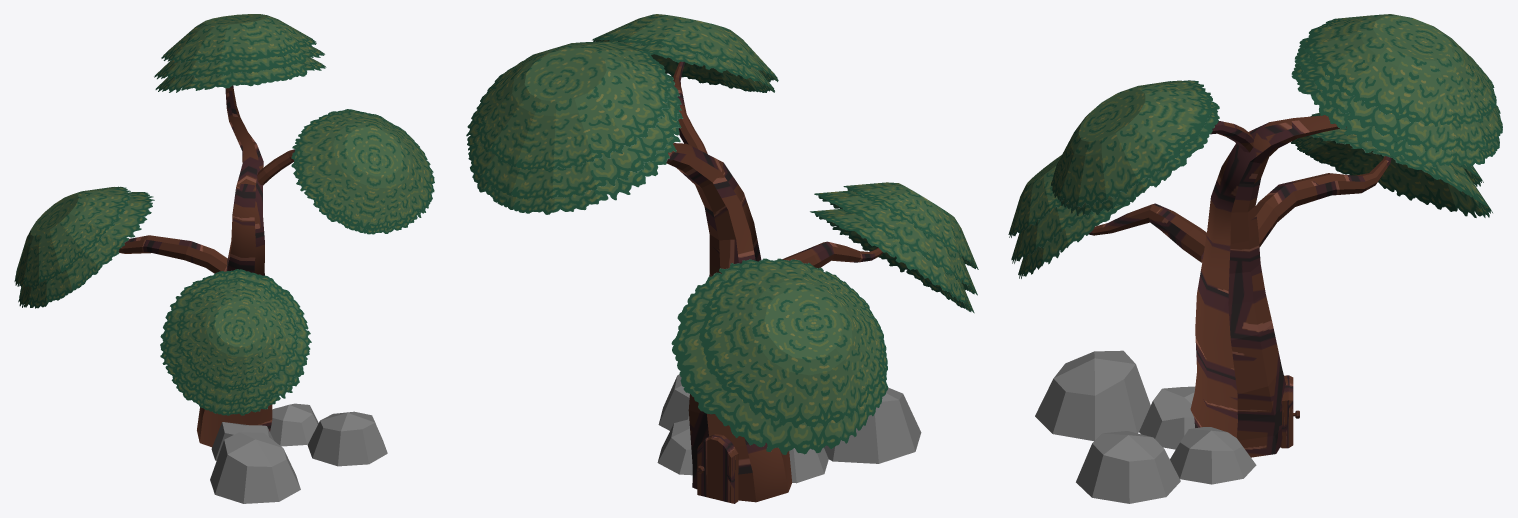
File: arvore2 (1) (2).fbx
3 views of the same model, side by side, from view 1: azimuth 30°, elevation 25°; view 2: azimuth 150°, elevation 25°; view 3: azimuth 270°, elevation 25° (orthographic). The views are drawn at different scales.
Parts seen in each view (by area): view 1: Circle.002; view 2: Circle.002; view 3: Circle.002.
Boxes of the visible parts, <box> form: Circle.002: <box>14,14,434,503</box>; Circle.002: <box>466,14,978,503</box>; Circle.002: <box>1008,14,1502,503</box>.
Bounding box in the file's own units: 1763 × 1945 × 1923.
